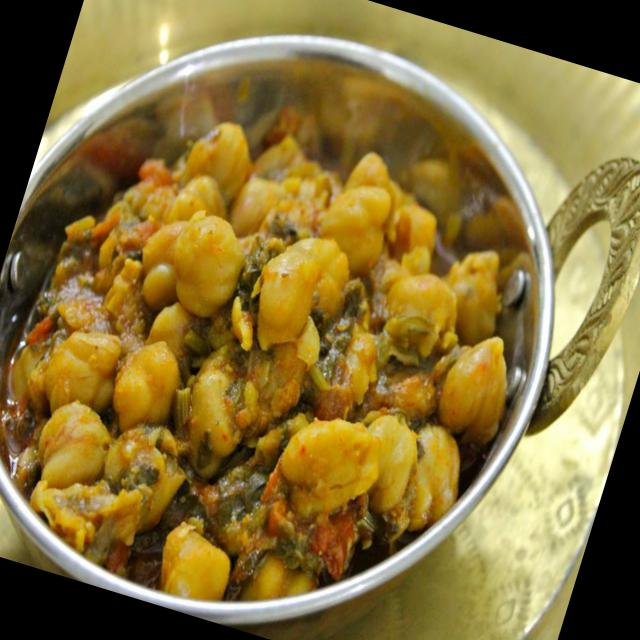Chole: (0, 69, 565, 640)
